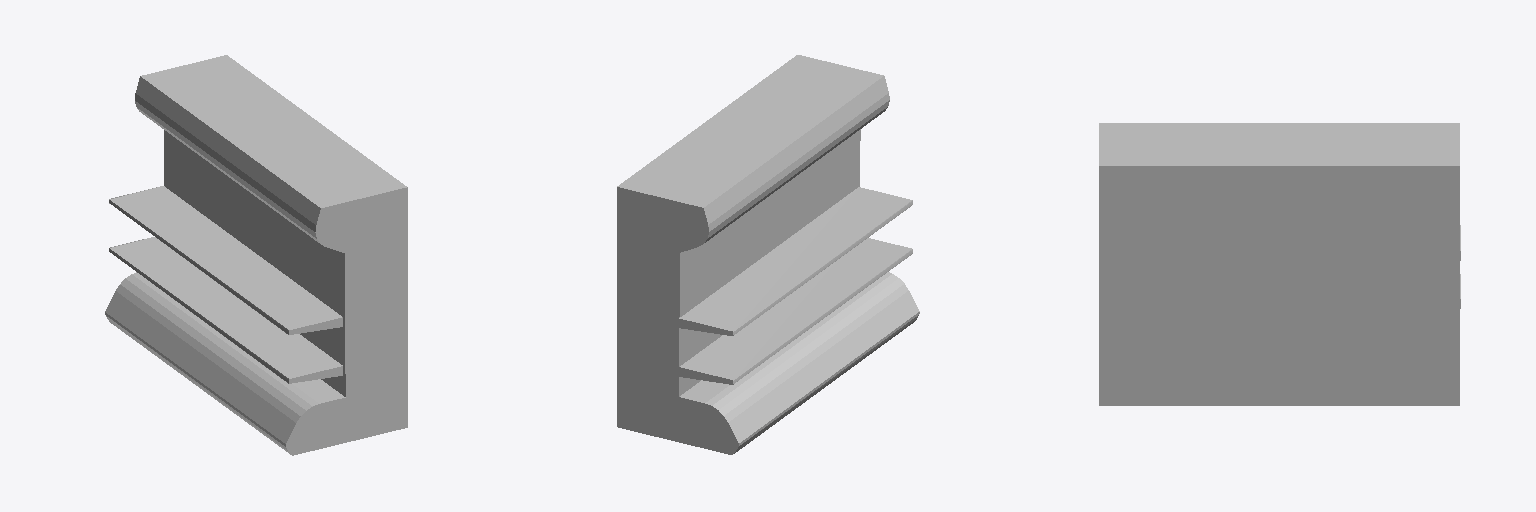
Rendered from wew.obj.
The picture shows the model from 3 angles: view 1: azimuth 30°, elevation 25°; view 2: azimuth 150°, elevation 25°; view 3: azimuth 270°, elevation 25°; orthographic projection.
Visible parts, largest first — view 1: pasted__pCube1 group5, group5 pasted__pasted__pasted__pCube2 pasted__pasted__group3 pas, group5 pasted__pasted__pasted__pasted__pCube2 pasted__pasted__pa; view 2: pasted__pCube1 group5, group5 pasted__pasted__pasted__pCube2 pasted__pasted__group3 pas, group5 pasted__pasted__pasted__pasted__pCube2 pasted__pasted__pa; view 3: pasted__pCube1 group5.
Part boxes in pixels (x1,y1,x2,y2): pasted__pCube1 group5: (105, 55, 407, 455); group5 pasted__pasted__pasted__pCube2 pasted__pasted__group3 pas: (109, 186, 342, 334); group5 pasted__pasted__pasted__pasted__pCube2 pasted__pasted__pa: (109, 237, 342, 383); pasted__pCube1 group5: (617, 55, 919, 454); group5 pasted__pasted__pasted__pCube2 pasted__pasted__group3 pas: (679, 187, 912, 335); group5 pasted__pasted__pasted__pasted__pCube2 pasted__pasted__pa: (679, 238, 912, 384); pasted__pCube1 group5: (1099, 123, 1459, 405).
Size of the model in its own units: 3.65 by 6.88 by 9.4.